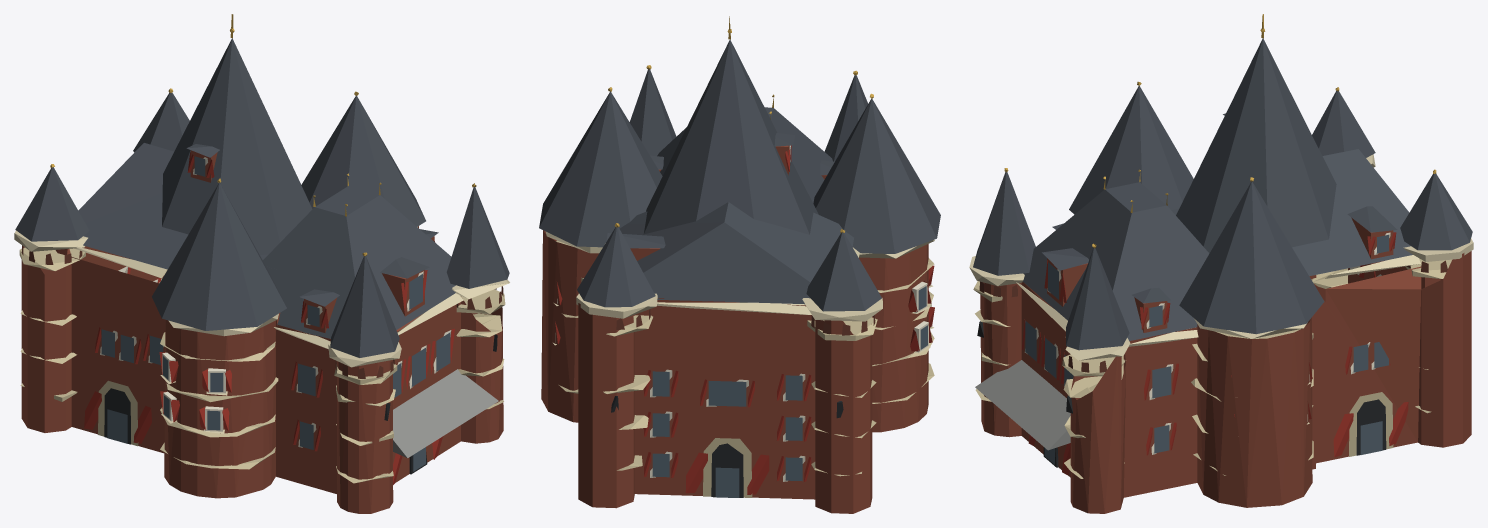
The model's file is waag.lod1.glb.
3 views of the same model, side by side, from view 1: azimuth 30°, elevation 25°; view 2: azimuth 150°, elevation 25°; view 3: azimuth 270°, elevation 25° (orthographic). The views are drawn at different scales.
Parts seen in each view (by area): view 1: waag; view 2: waag; view 3: waag.
Boxes of the visible parts, bbox=[...] form: waag: bbox=[14, 14, 509, 513]; waag: bbox=[539, 16, 940, 513]; waag: bbox=[969, 14, 1473, 513].
Bounding box in the file's own units: 25.75 × 27.2 × 30.54.
